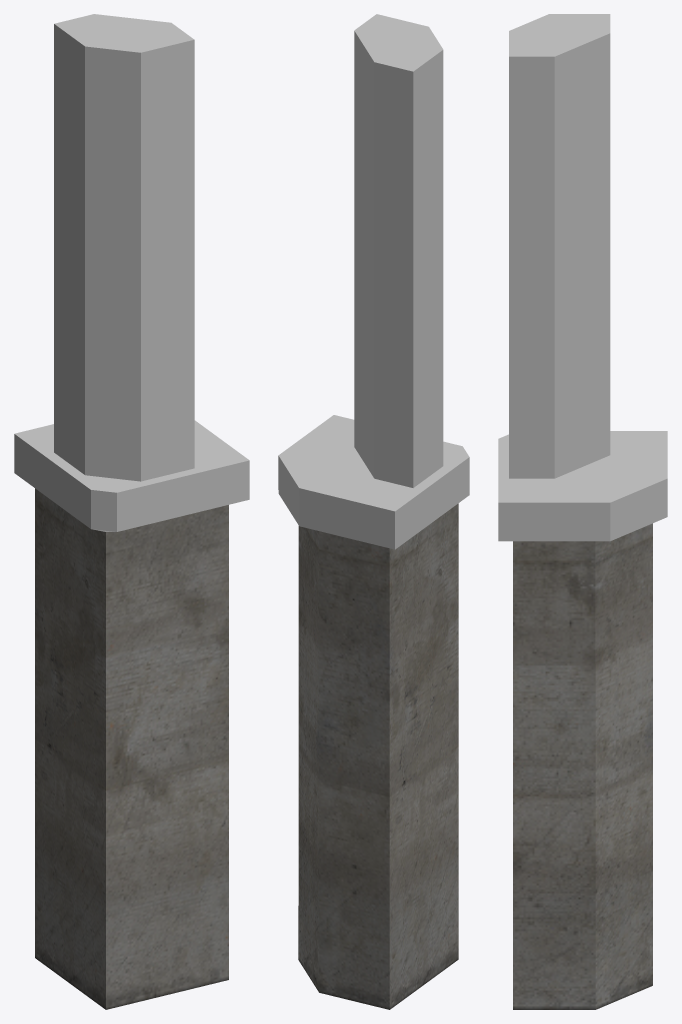
The model's file is CP_Parapet_A_Angle_In.fbx.
The picture shows the model from 3 angles, left to right: view 1: azimuth 30°, elevation 25°; view 2: azimuth 150°, elevation 25°; view 3: azimuth 270°, elevation 25°; orthographic projection. The views are drawn at different scales.
Visible parts, largest first — view 1: CP_Parapet_A_Angle_In; view 2: CP_Parapet_A_Angle_In; view 3: CP_Parapet_A_Angle_In.
Boxes of the visible parts, x1=… form: CP_Parapet_A_Angle_In: x1=14, y1=14, x2=249, y2=1009; CP_Parapet_A_Angle_In: x1=278, y1=14, x2=469, y2=1009; CP_Parapet_A_Angle_In: x1=498, y1=14, x2=667, y2=1009.
Bounding box in the file's own units: 30.32 × 184 × 30.32.
